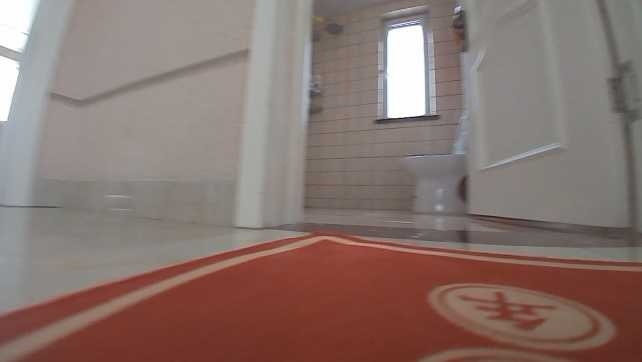blanket: (0, 220, 641, 361)
door_anno: (450, 0, 641, 230)
toilet: (398, 110, 468, 215)
